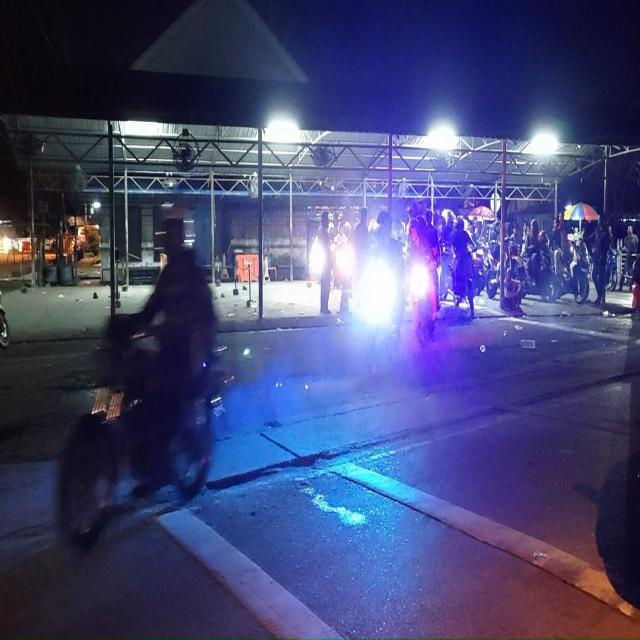Golongan II: (56, 316, 232, 549), (354, 253, 406, 373), (408, 260, 436, 344), (554, 242, 590, 304), (514, 252, 556, 302), (453, 250, 475, 317), (607, 252, 637, 291), (438, 241, 453, 301), (485, 241, 500, 299), (471, 246, 488, 297), (605, 248, 618, 291)
